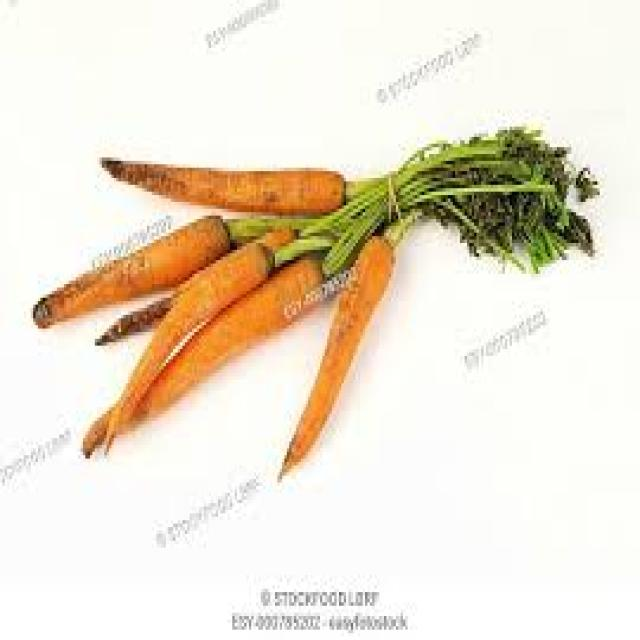Stale_Carrot: (32, 120, 352, 466)
